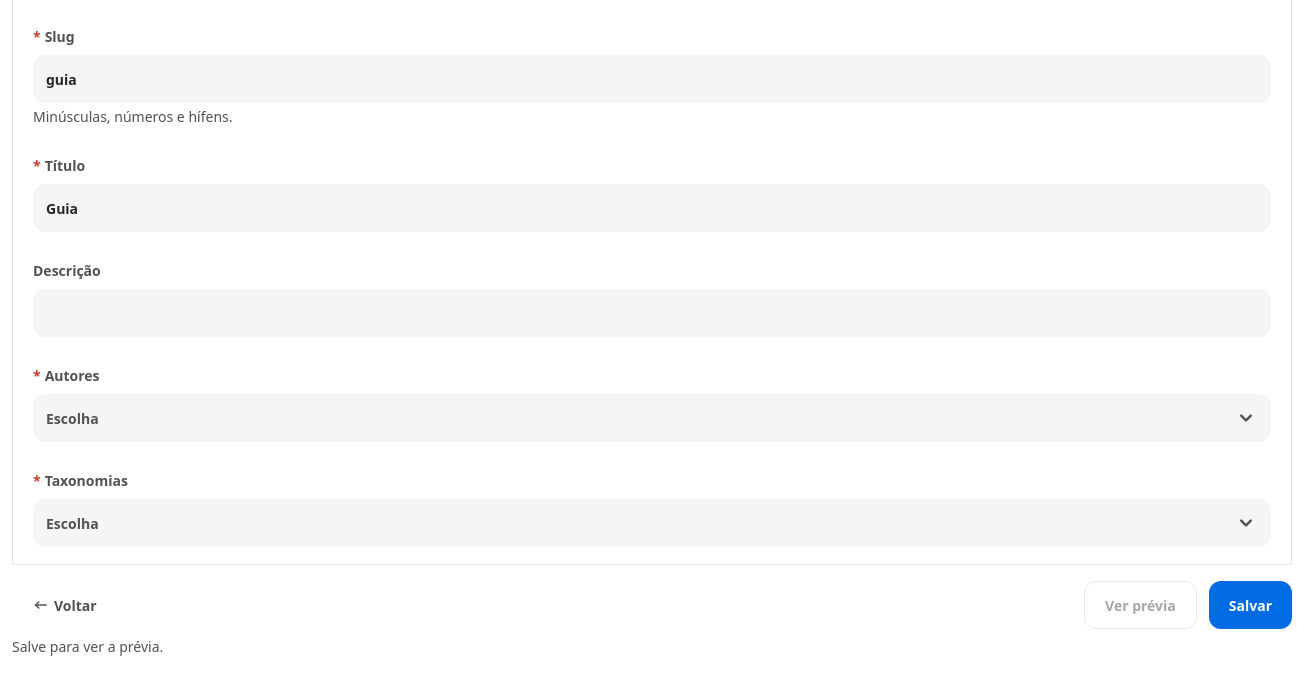
Test case: editor de conteúdo › a recusa do domínio aparece no campo do caminho e no resumo
Click the button "Salvar" at (1250, 605), box [1209,581,1292,629]
(page scrolled)
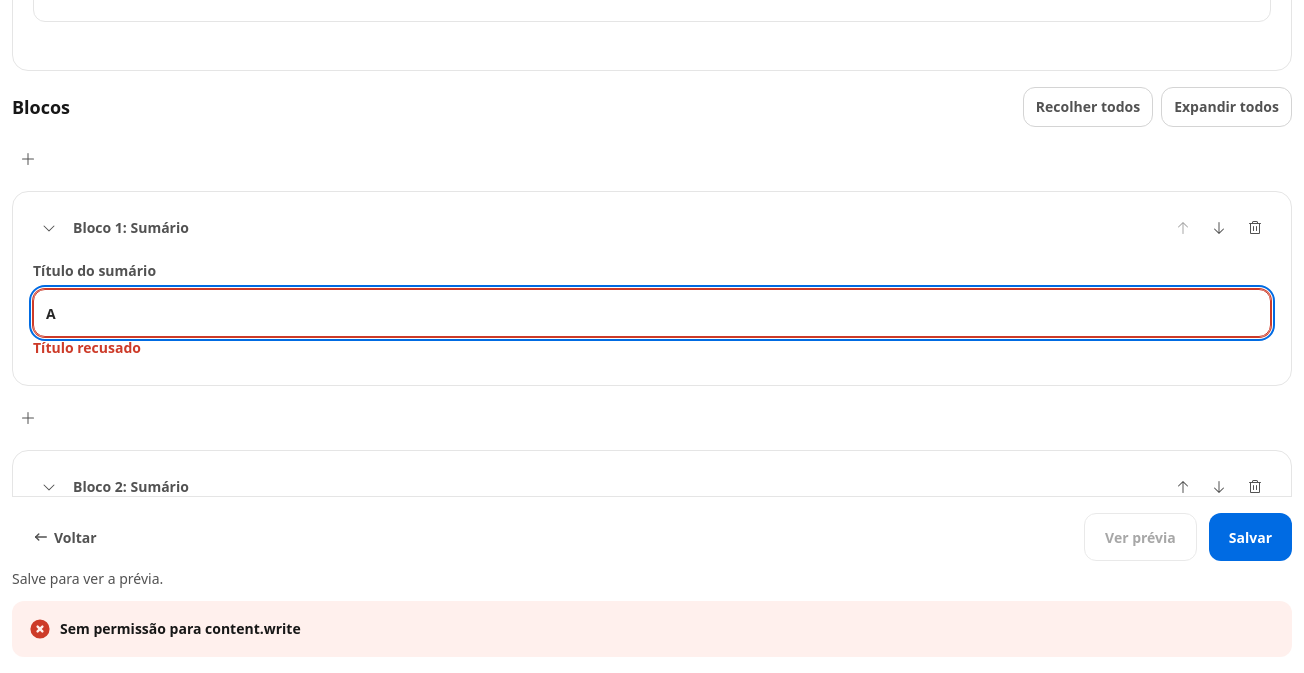
Result: the text "Título recusado" is shown at [33,337,141,358]
Result: the message reads "Sem permissão para content.write" at [60,619,301,638]
